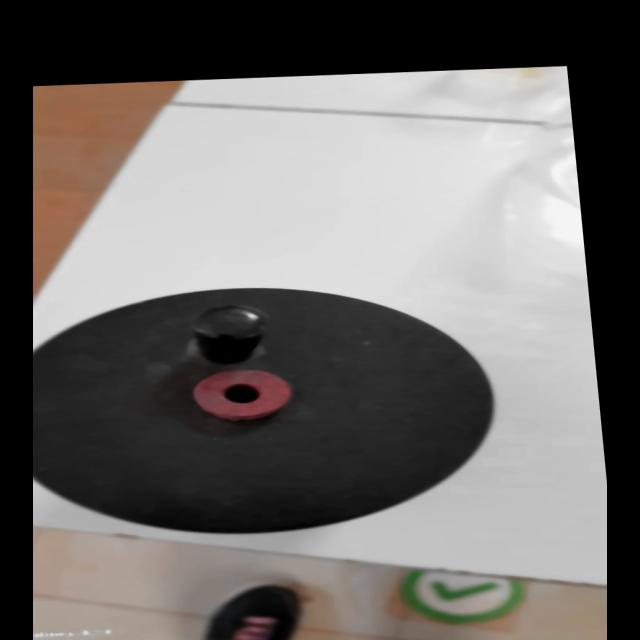Calorimeter: (33, 274, 511, 546)
